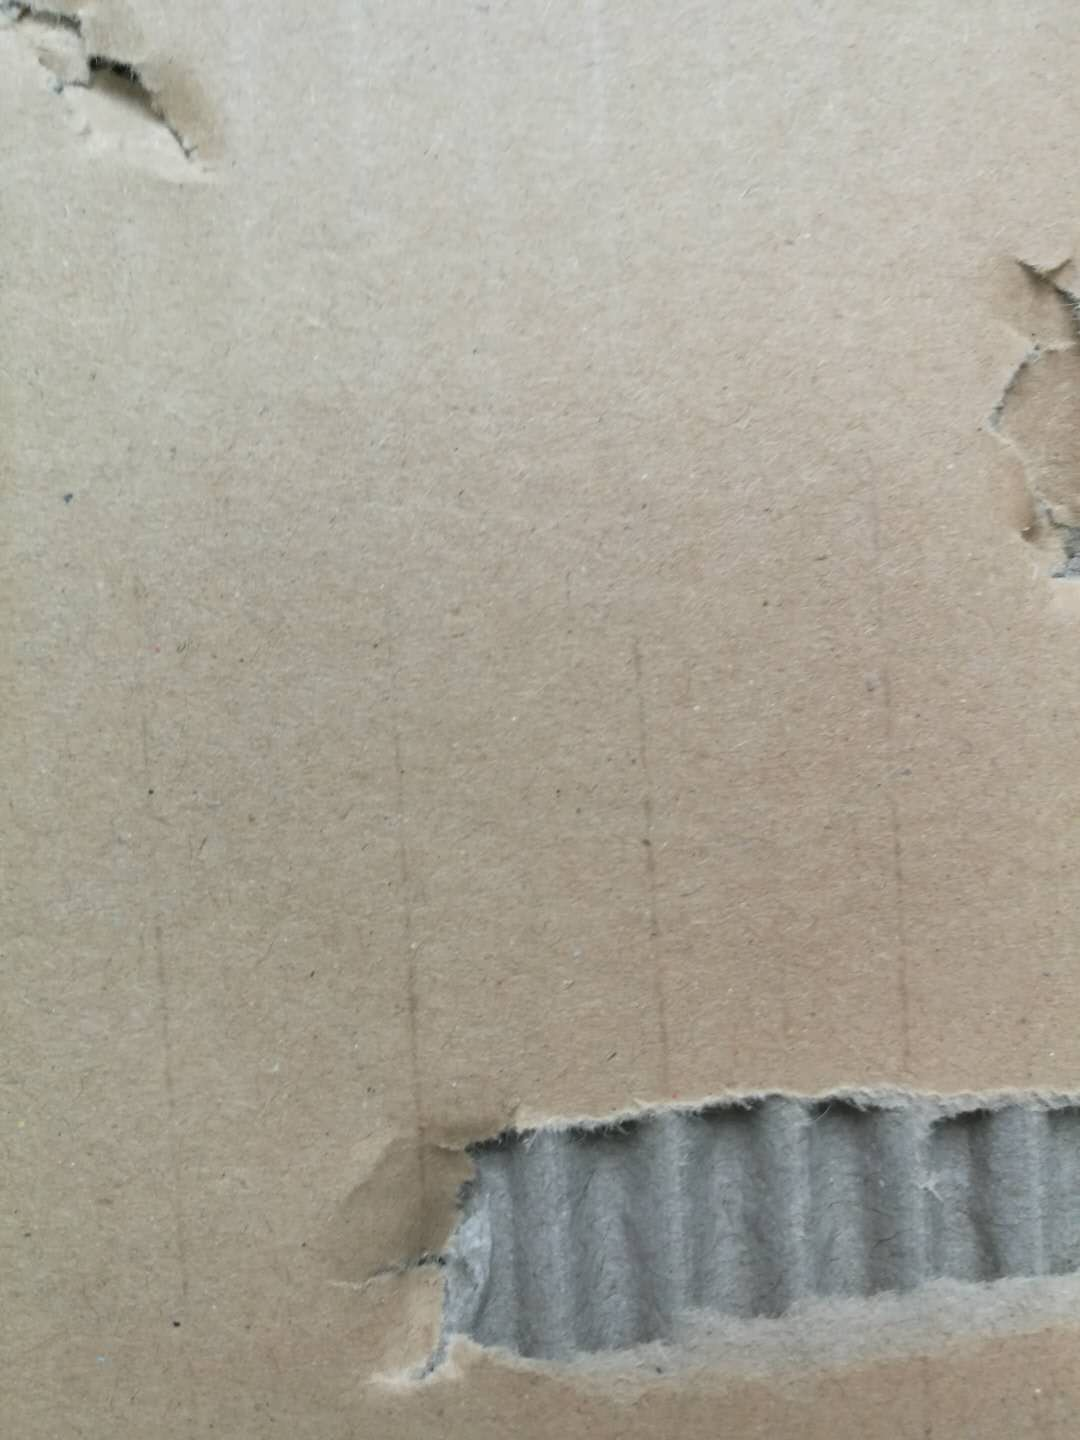defect: (272, 1030, 1080, 1415), (943, 204, 1080, 622), (1, 1, 252, 202)
